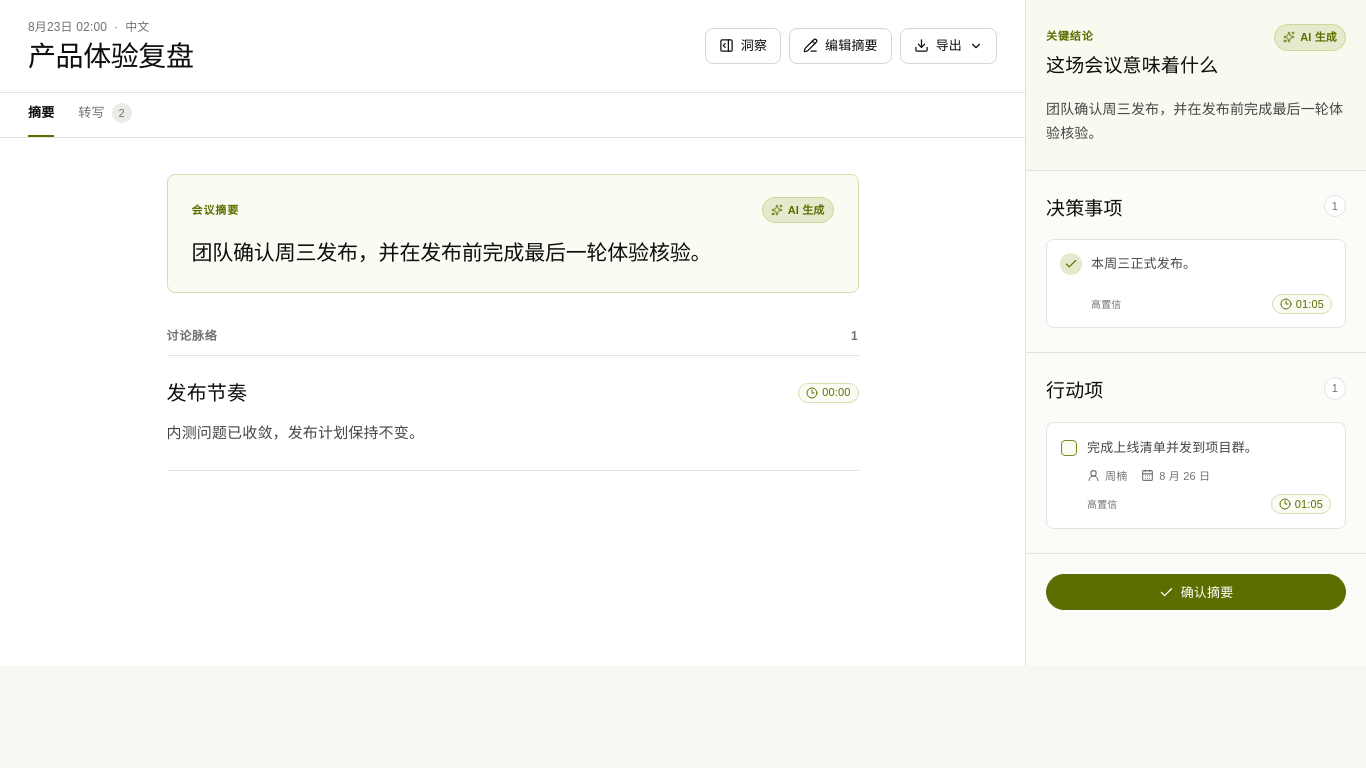
it: MeetingWorkspace › opens the transcript and focuses the cited source
This screenshot has width=1366, height=768.
Click the button named "查看来源 01:05" at (1302, 304), box [1272,294,1332,314]
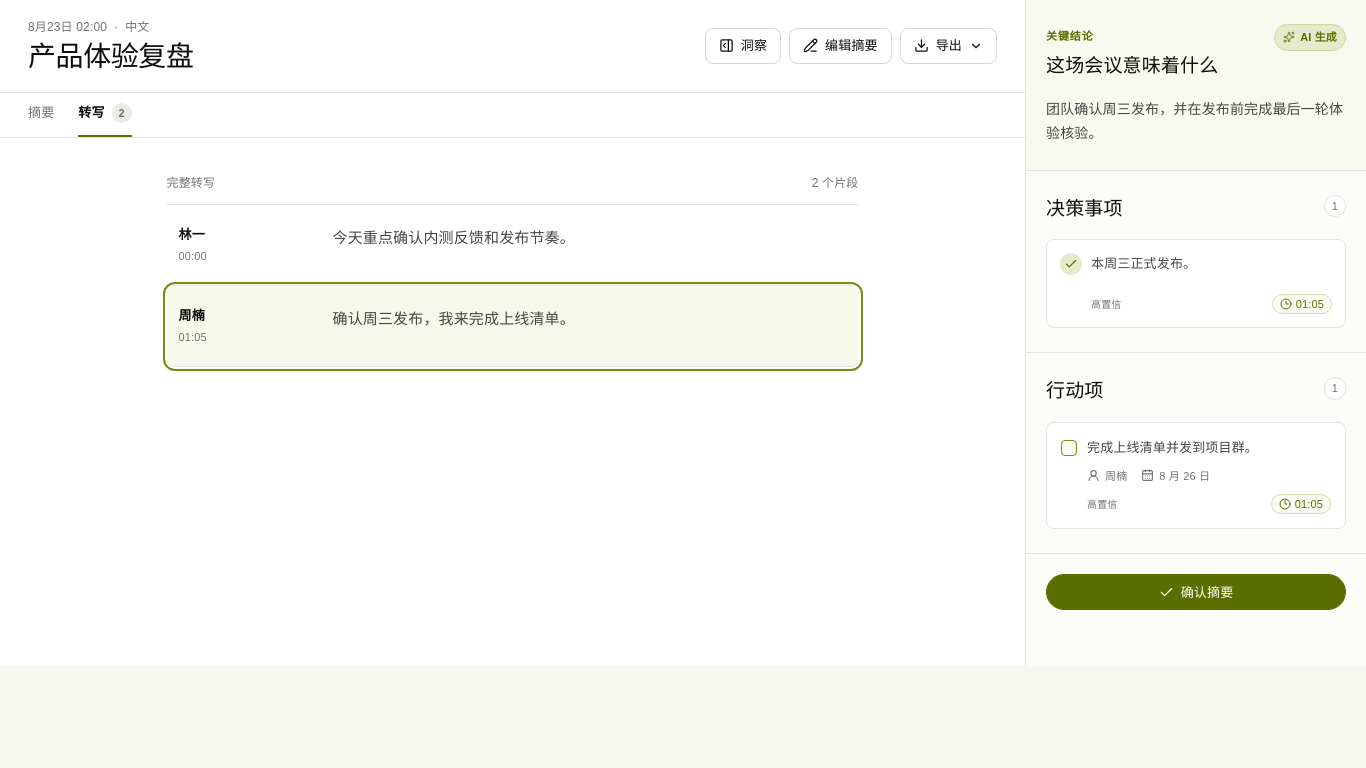
Expected: the text "确认周三发布，我来完成上线清单。" is shown, [332,310,575,327]
